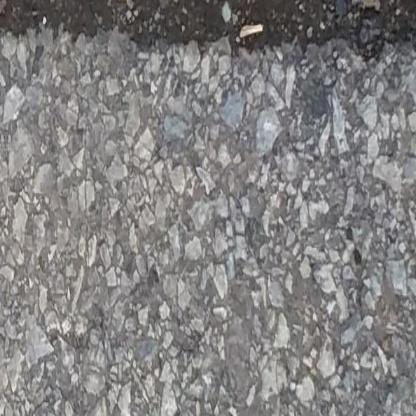Cracks: (0, 0, 416, 60)
